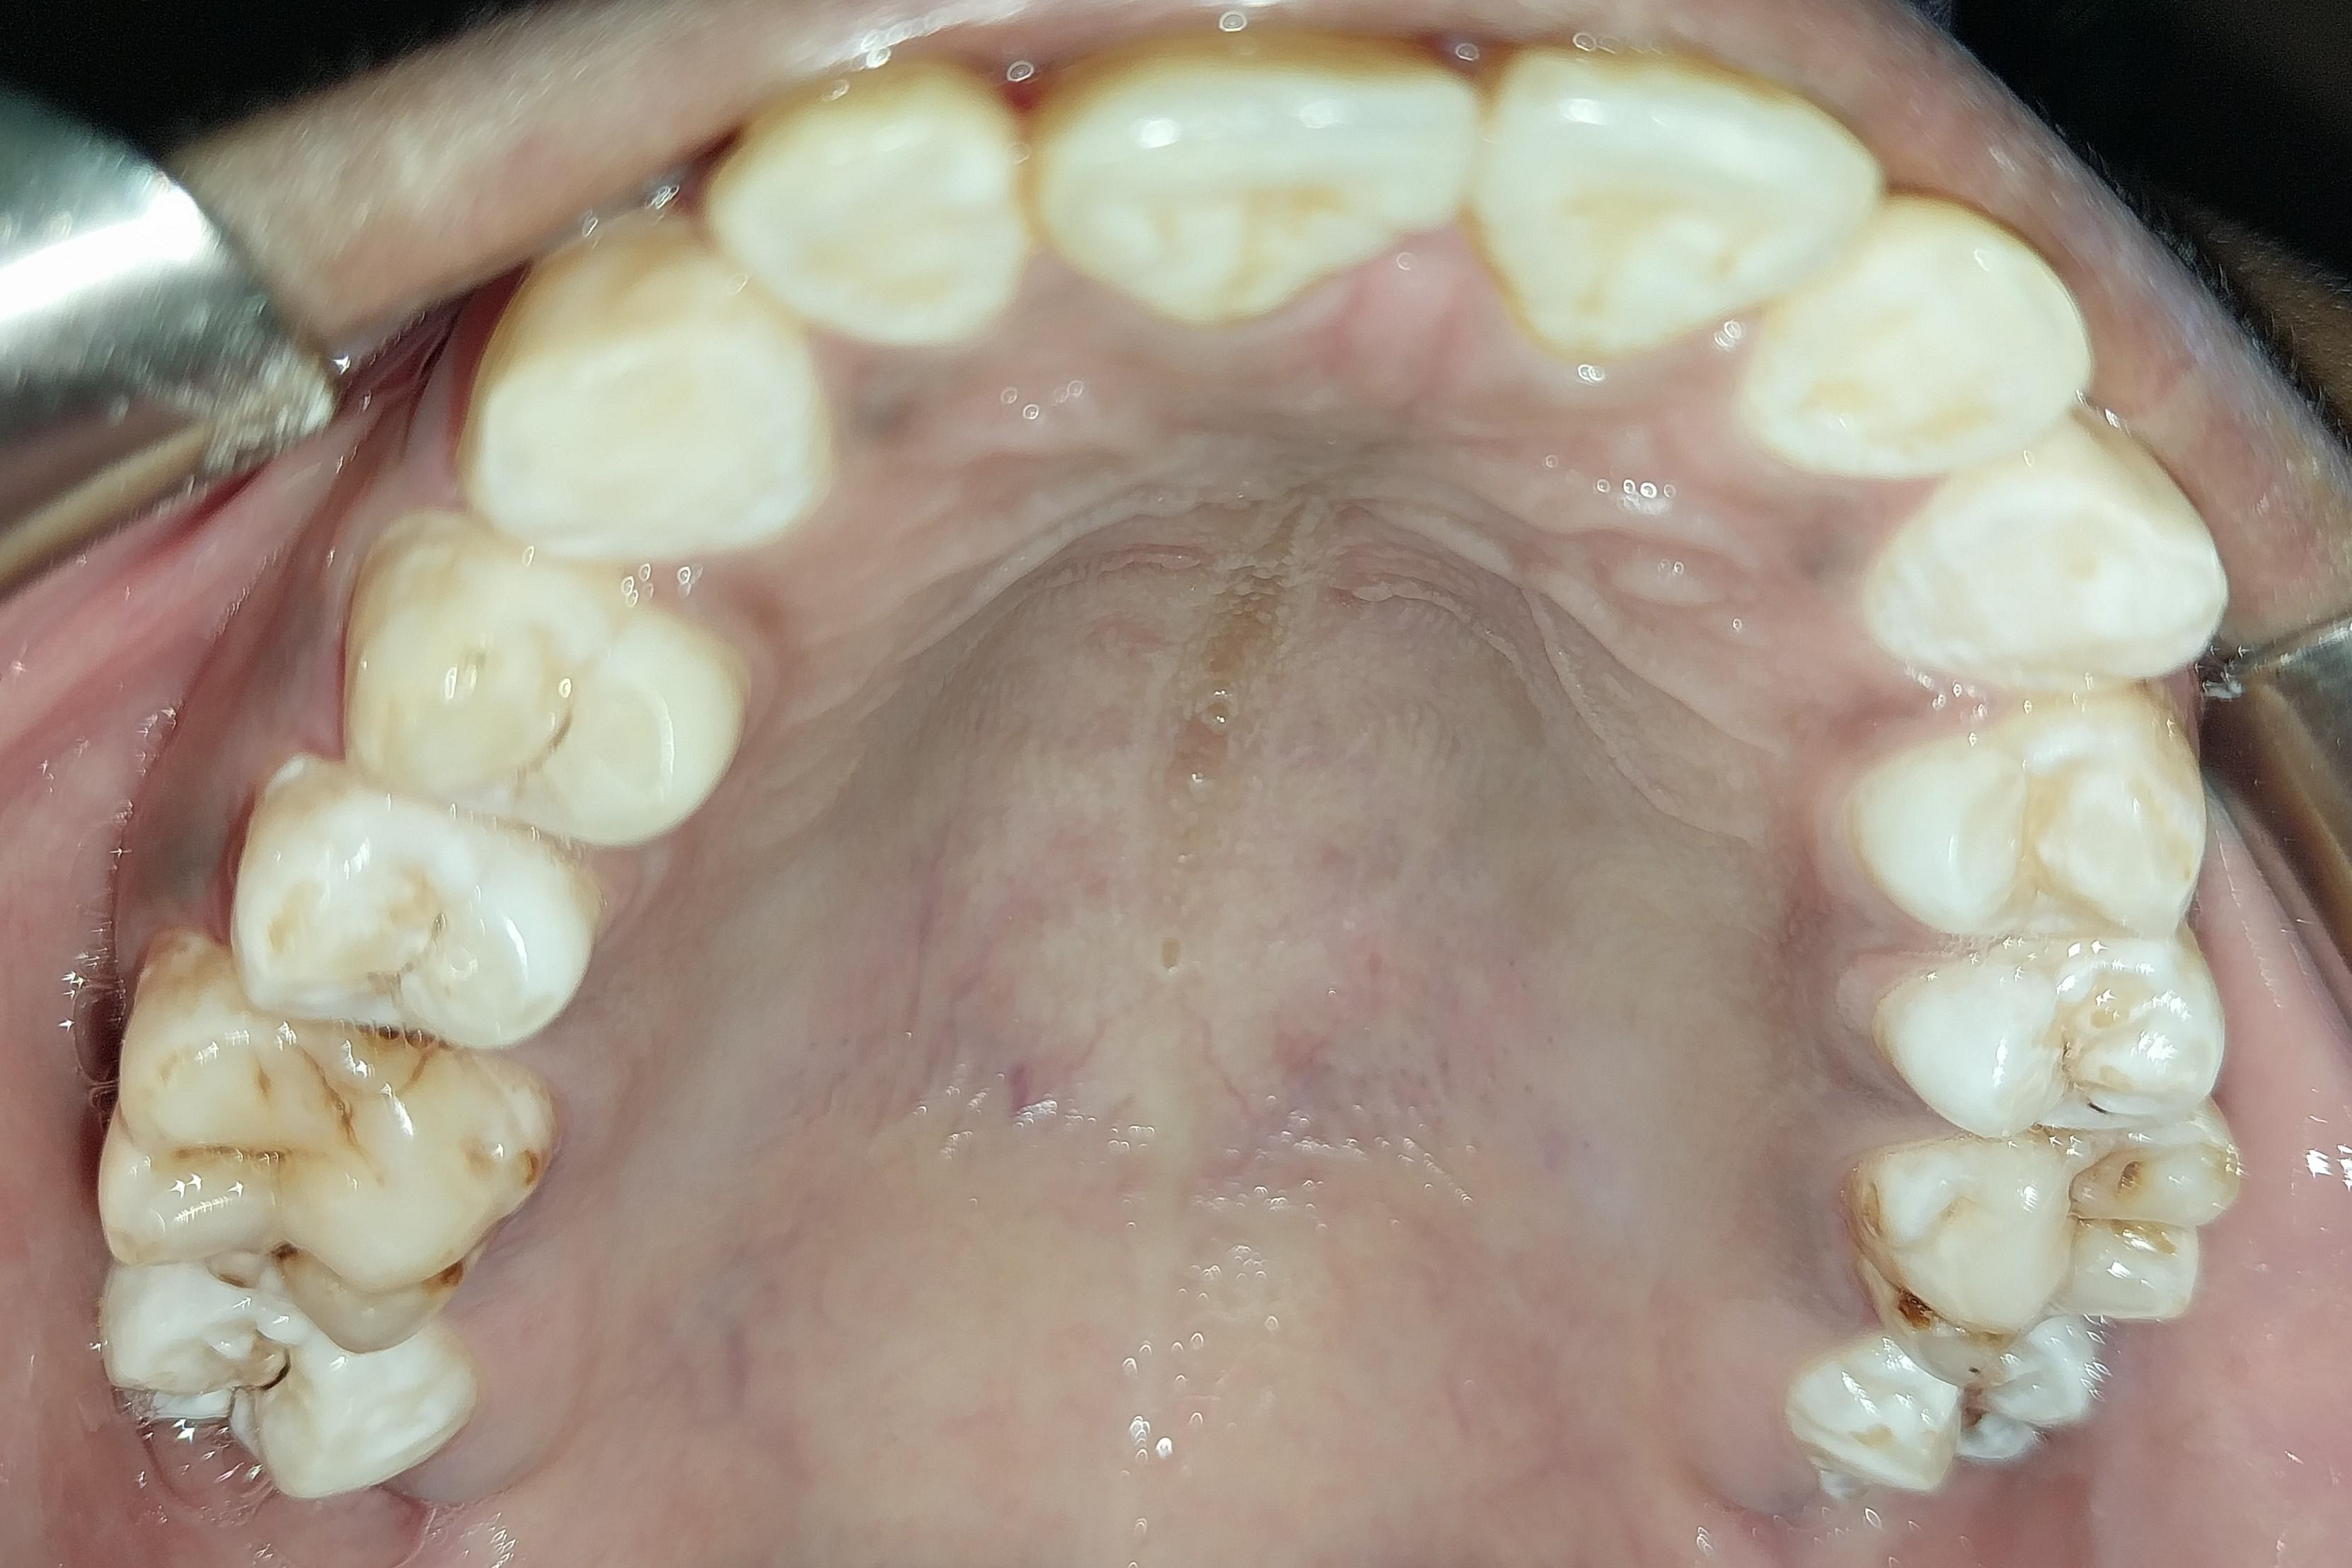D: (112, 950, 525, 1352), (1853, 1085, 2251, 1388), (90, 1260, 490, 1510), (1886, 917, 2232, 1135), (1794, 1293, 2090, 1513)
